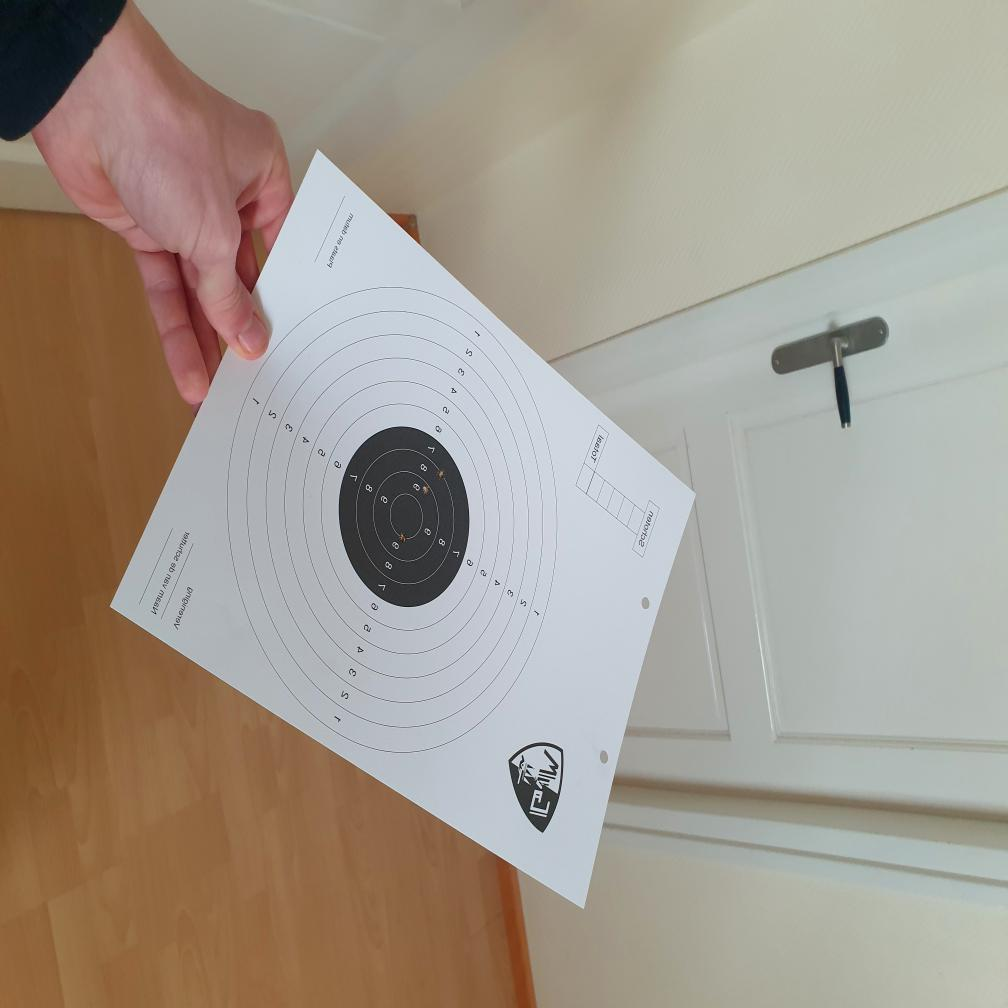10: (399, 532, 408, 543)
8: (436, 468, 446, 480)
9: (423, 484, 430, 494)
Target: (224, 286, 560, 753)
black_contour: (338, 425, 469, 608)
